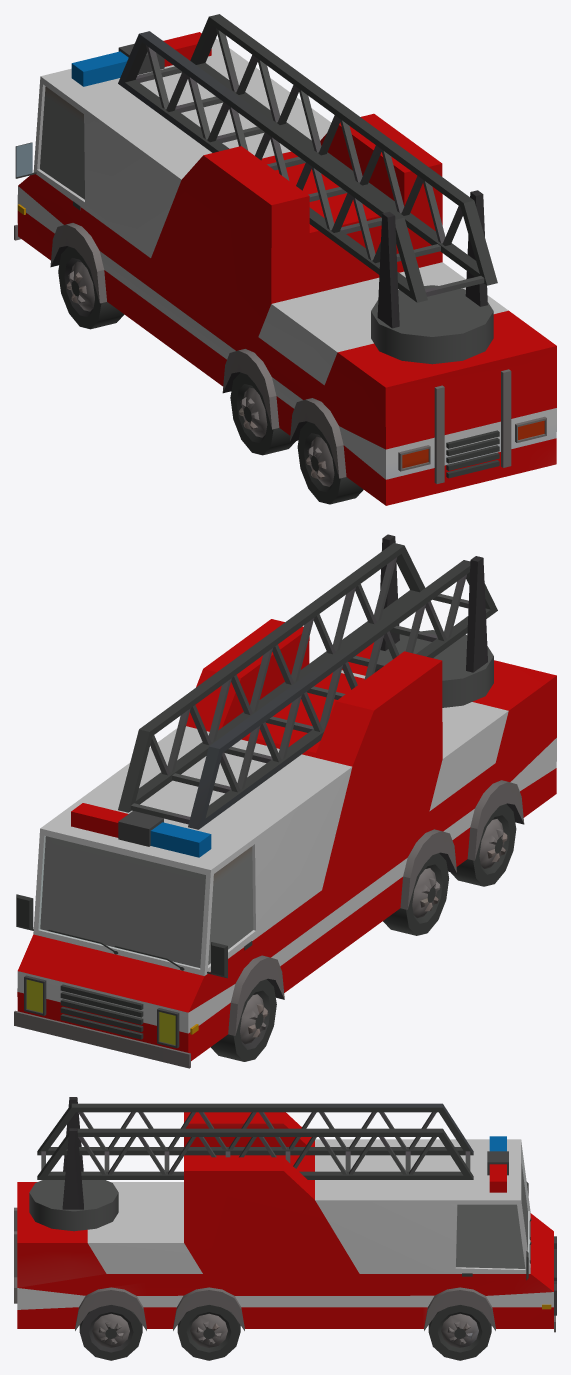
Rendered from fire_truck.gltf.
3 views of the same model, one above another, from view 1: azimuth 30°, elevation 25°; view 2: azimuth 150°, elevation 25°; view 3: azimuth 270°, elevation 25° (orthographic). The views are drawn at different scales.
Visible parts, largest first — view 1: Hood, Glass, Wheel_back_left, Wheel_front_left, Wheel_middle_left; view 2: Hood, Glass, Wheel_middle_left, Wheel_front_left, Wheel_back_left; view 3: Hood, Glass, Wheel_back_right, Wheel_front_right, Wheel_middle_right.
Part boxes in pixels (x1=…): Hood: x1=14, y1=14, x2=556, y2=505; Glass: x1=40, y1=86, x2=84, y2=199; Wheel_back_left: x1=297, y1=421, x2=363, y2=504; Wheel_front_left: x1=58, y1=246, x2=124, y2=329; Wheel_middle_left: x1=230, y1=372, x2=295, y2=455; Hood: x1=14, y1=534, x2=556, y2=1068; Glass: x1=40, y1=836, x2=253, y2=967; Wheel_middle_left: x1=383, y1=853, x2=449, y2=935; Wheel_front_left: x1=210, y1=979, x2=276, y2=1061; Wheel_back_left: x1=450, y1=804, x2=516, y2=886; Hood: x1=14, y1=1097, x2=556, y2=1332; Glass: x1=456, y1=1164, x2=527, y2=1268; Wheel_back_right: x1=79, y1=1305, x2=142, y2=1360; Wheel_front_right: x1=428, y1=1305, x2=491, y2=1360; Wheel_middle_right: x1=177, y1=1305, x2=240, y2=1360.
Size of the model in its own units: 2.84 by 3.81 by 8.69.
Materials: 2 (2 with a texture image).
